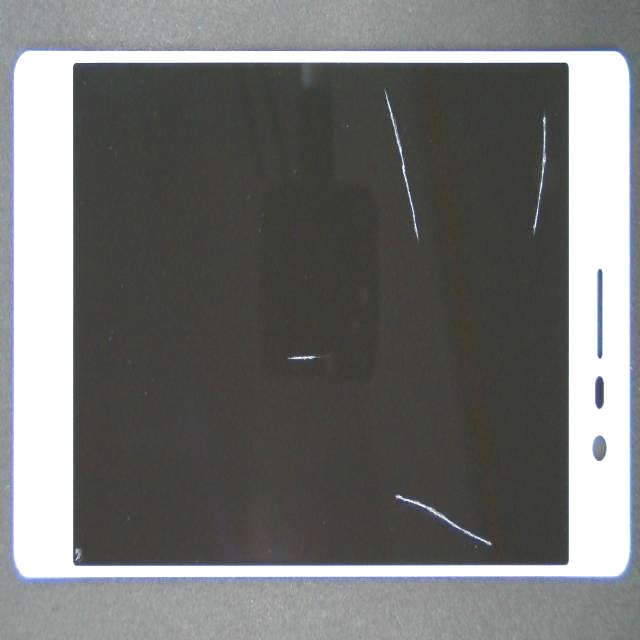scratch: (209, 214, 589, 640), (167, 193, 488, 538), (224, 127, 640, 378), (290, 78, 640, 175)
